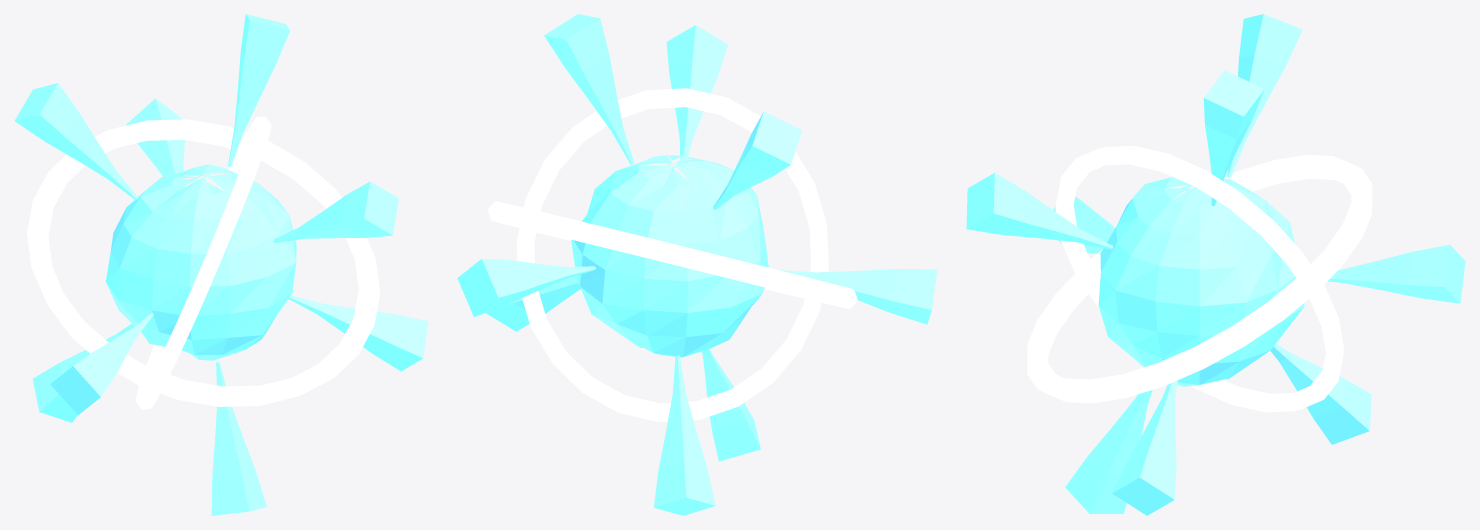
File: fx_charge.glb
3 renders of one model, left to right at view 1: azimuth 30°, elevation 25°; view 2: azimuth 150°, elevation 25°; view 3: azimuth 270°, elevation 25°, orthographic. The views are drawn at different scales.
Visible parts, largest first — view 1: charge-up-sphere; view 2: charge-up-sphere; view 3: charge-up-sphere.
Boxes of the visible parts, <box> form: charge-up-sphere: <box>14,14,428,515</box>; charge-up-sphere: <box>457,14,937,515</box>; charge-up-sphere: <box>966,14,1465,515</box>.
Bounding box in the file's own units: 0.9138 × 0.967 × 0.9128.
